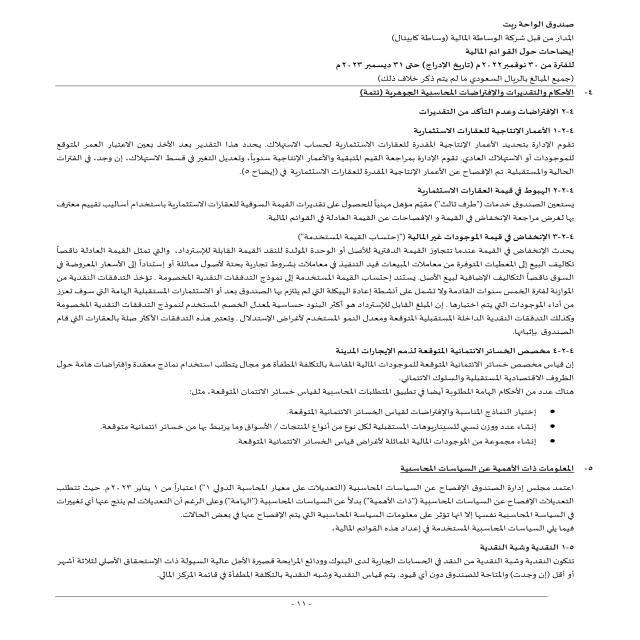notes: (448, 47, 583, 59)
text: (39, 90, 596, 587)
